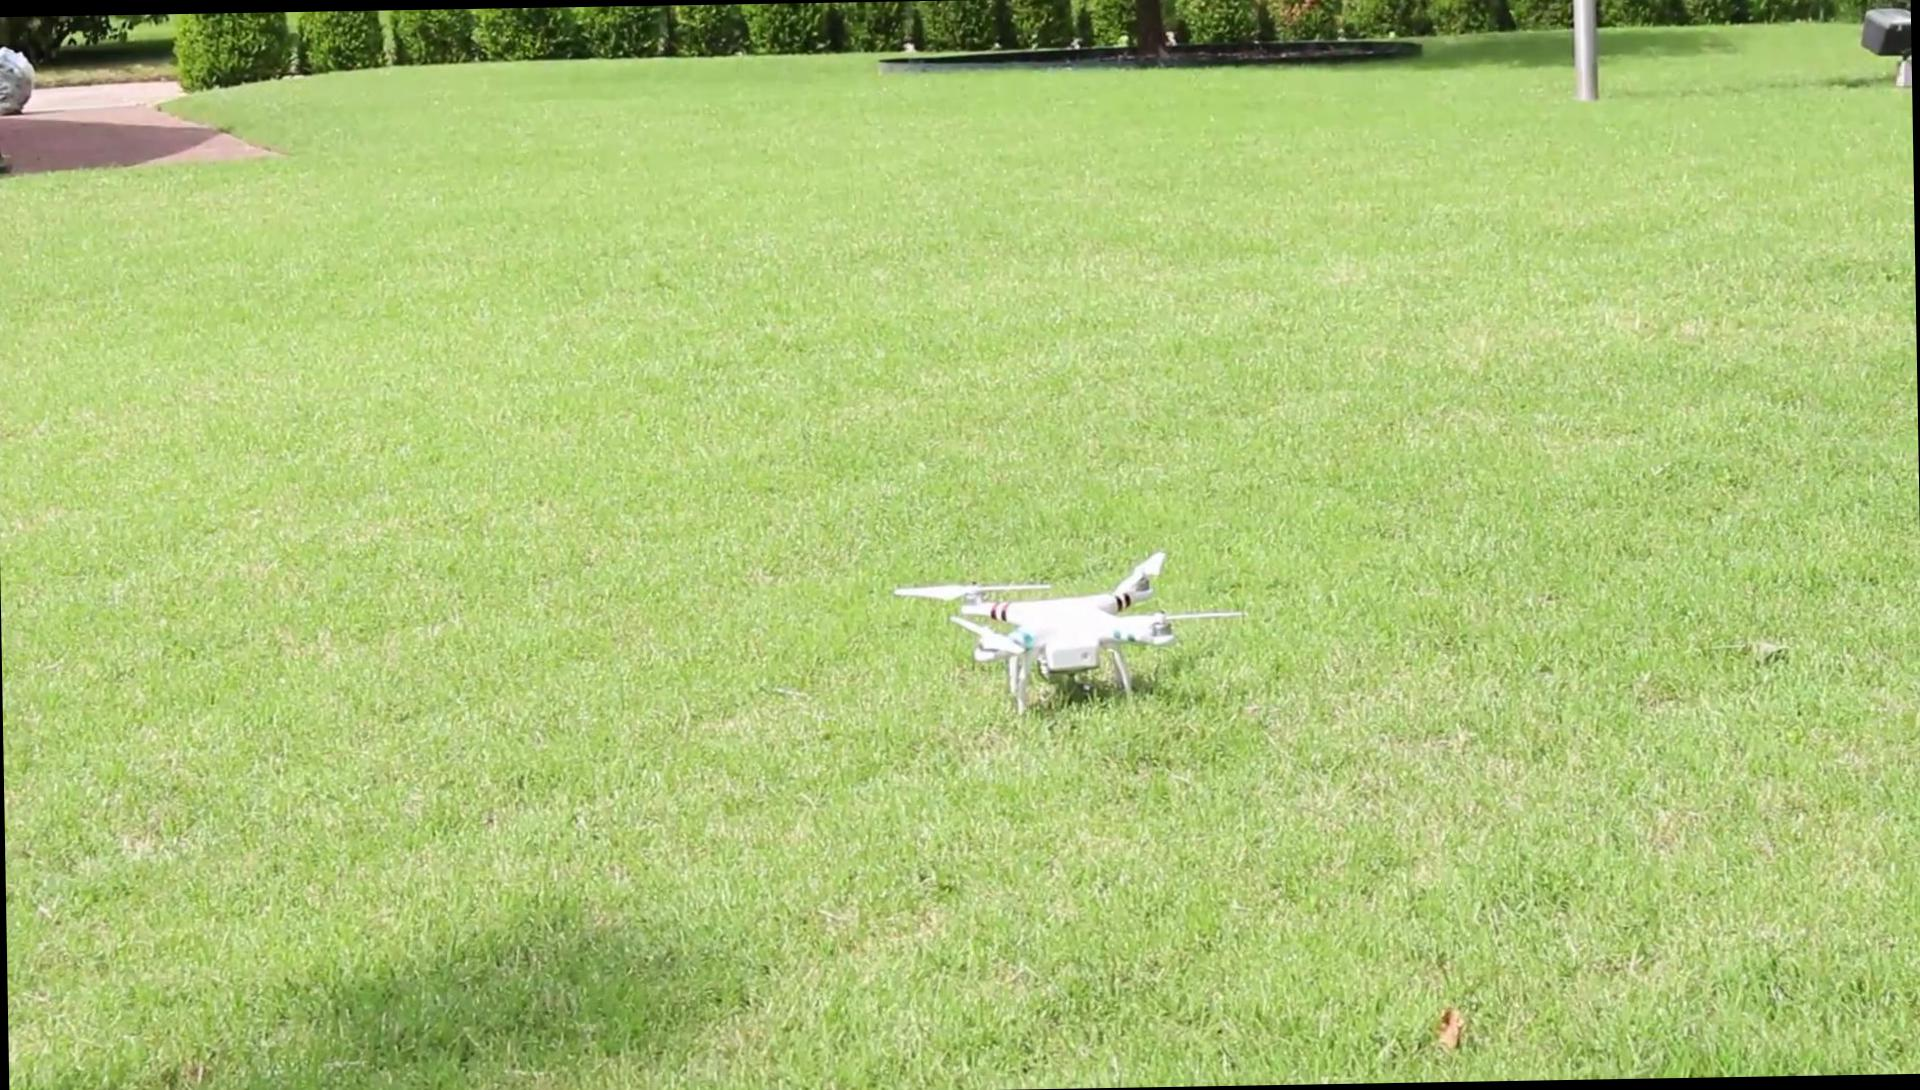drone: (891, 546, 1244, 720)
